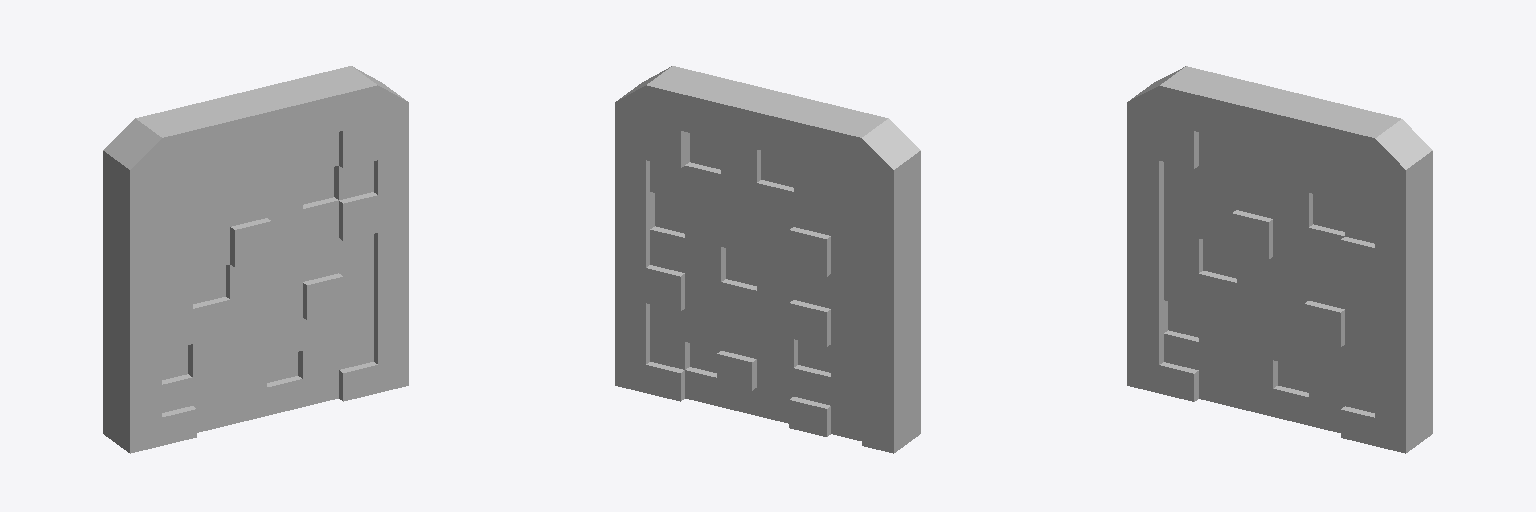
Rendered from wall small.obj.
The picture shows the model from 3 angles: view 1: azimuth 30°, elevation 25°; view 2: azimuth 150°, elevation 25°; view 3: azimuth 330°, elevation 25°; orthographic projection.
Visible parts, largest first — view 1: cube; view 2: cube; view 3: cube.
Boxes of the visible parts, x1=… form: cube: x1=103, y1=66, x2=408, y2=453; cube: x1=615, y1=66, x2=920, y2=453; cube: x1=1127, y1=66, x2=1432, y2=453.
Bounding box in the file's own units: 2.25 × 2.38 × 0.375.